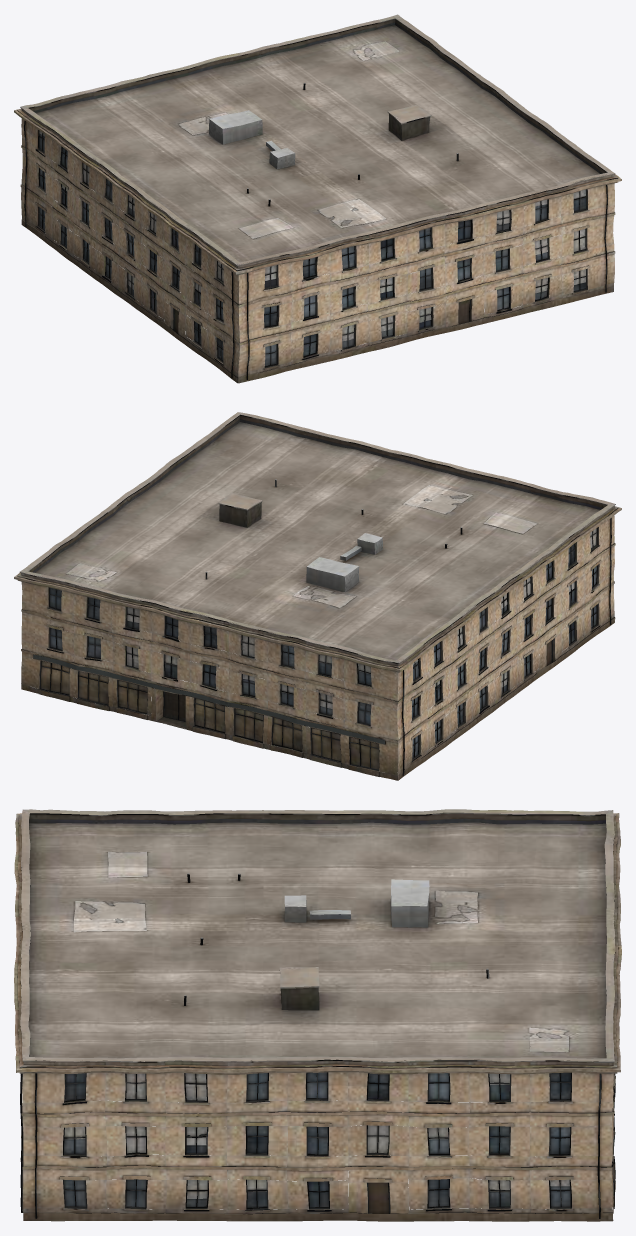
3 renders of one model, top to bottom at view 1: azimuth 30°, elevation 25°; view 2: azimuth 150°, elevation 25°; view 3: azimuth 270°, elevation 25°, orthographic. The views are drawn at different scales.
Parts seen in each view (by area): view 1: building; view 2: building; view 3: building.
Part boxes in pixels (x1,y1,x2,y2): building: [14, 14, 621, 383]; building: [14, 412, 621, 780]; building: [14, 809, 621, 1221].
Size of the model in its own units: 32.93 by 10.52 by 32.98.
1 material, 1 textured.
